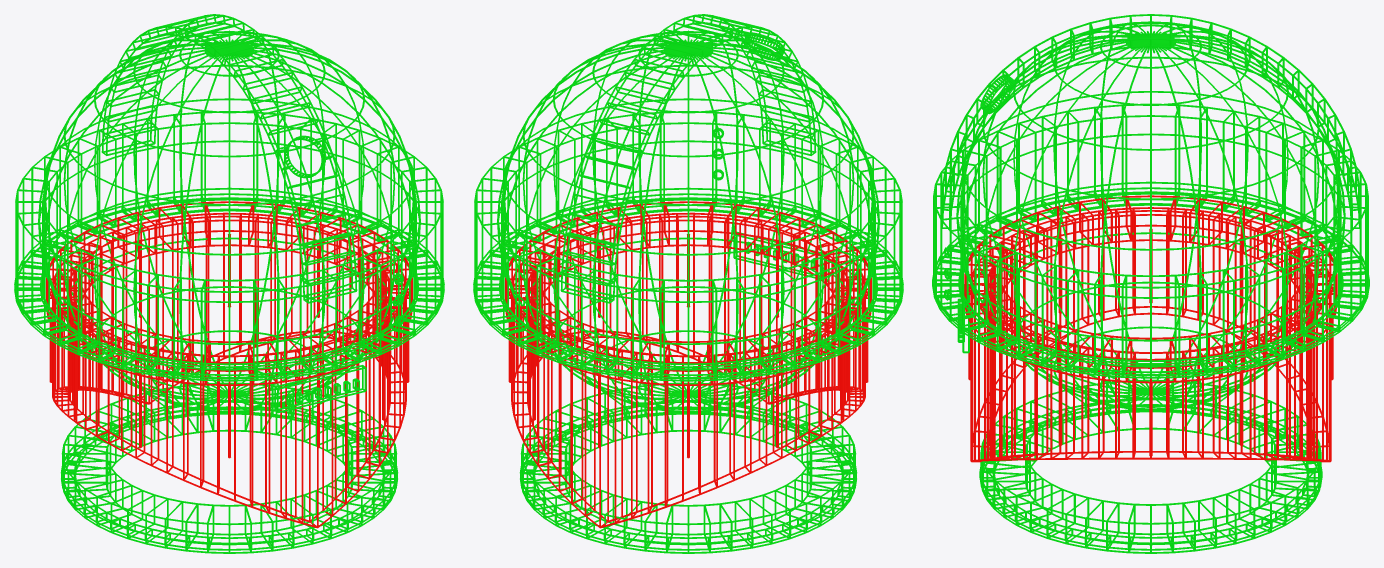
Rendered from missile-guidance-system-highlight-armoured-computer-casing.glb.
The picture shows the model from 3 angles, left to right: view 1: azimuth 30°, elevation 25°; view 2: azimuth 150°, elevation 25°; view 3: azimuth 270°, elevation 25°; orthographic projection.
Visible parts, largest first — view 1: targeting-io technical wire, armoured-computer-casing technical wire, holographic-sphere technical wire, chassis technical wire; view 2: targeting-io technical wire, armoured-computer-casing technical wire, holographic-sphere technical wire, chassis technical wire; view 3: targeting-io technical wire, armoured-computer-casing technical wire, holographic-sphere technical wire, chassis technical wire.
Boxes of the visible parts, x1,y1,x2,y2 form: targeting-io technical wire: [14, 14, 444, 413]; armoured-computer-casing technical wire: [46, 201, 412, 528]; holographic-sphere technical wire: [38, 30, 420, 412]; chassis technical wire: [60, 382, 398, 553]; targeting-io technical wire: [473, 14, 903, 381]; armoured-computer-casing technical wire: [505, 201, 871, 528]; holographic-sphere technical wire: [497, 30, 879, 412]; chassis technical wire: [519, 382, 857, 553]; targeting-io technical wire: [932, 14, 1369, 378]; armoured-computer-casing technical wire: [964, 195, 1337, 462]; holographic-sphere technical wire: [956, 23, 1345, 409]; chassis technical wire: [979, 379, 1322, 553].
Bounding box in the file's own units: 2.17 × 2.5 × 2.17.
